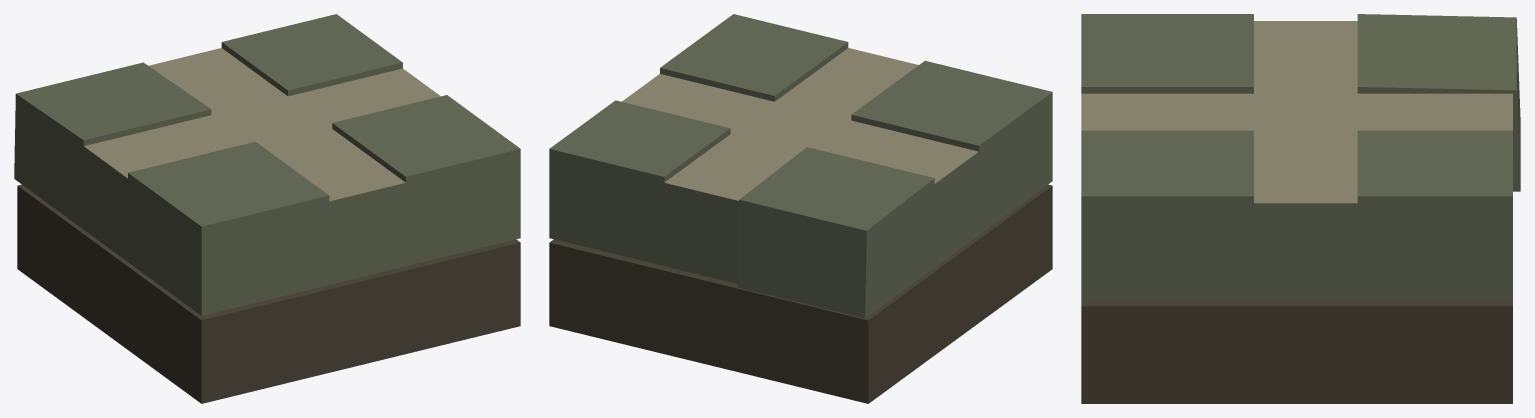
The model's file is Path 2.fbx.
3 views of the same model, side by side, from view 1: azimuth 30°, elevation 25°; view 2: azimuth 150°, elevation 25°; view 3: azimuth 270°, elevation 25° (orthographic). The views are drawn at different scales.
Visible parts, largest first — view 1: polySurface1159; view 2: polySurface1159; view 3: polySurface1159.
Boxes of the visible parts, x1,y1,x2,y2 form: polySurface1159: [14, 14, 520, 403]; polySurface1159: [549, 14, 1052, 403]; polySurface1159: [1081, 14, 1520, 403].
Bounding box in the file's own units: 56.98 × 30.24 × 57.97.
